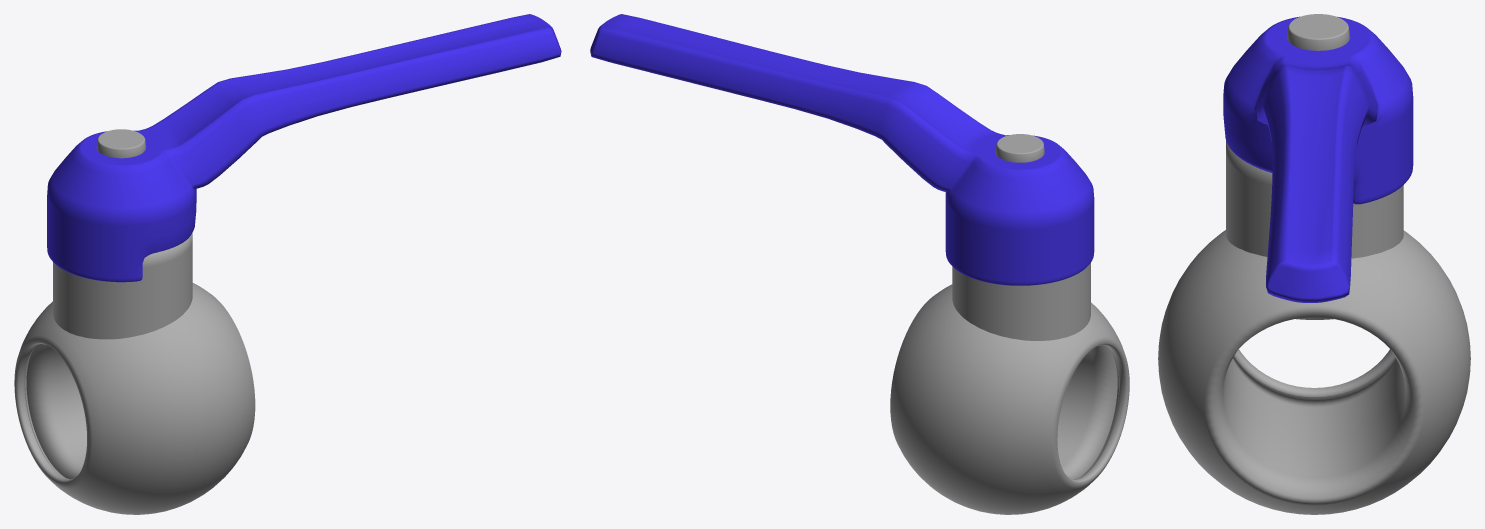
Rendered from zawor_kulowy_three_kula3_kurek_blue.glb.
3 views of the same model, side by side, from view 1: azimuth 30°, elevation 25°; view 2: azimuth 150°, elevation 25°; view 3: azimuth 270°, elevation 25° (orthographic). The views are drawn at different scales.
Parts seen in each view (by area): view 1: Circle.001, Cylinder.002; view 2: Circle.001, Cylinder.002; view 3: Circle.001, Cylinder.002.
Part boxes in pixels (x1,y1,x2,y2): Circle.001: [14, 14, 561, 514]; Cylinder.002: [53, 233, 192, 339]; Circle.001: [590, 14, 1129, 514]; Cylinder.002: [952, 263, 1090, 340]; Circle.001: [1158, 14, 1470, 514]; Cylinder.002: [1226, 141, 1403, 319].
Size of the model in its own units: 2.45 by 1.82 by 1.04.
